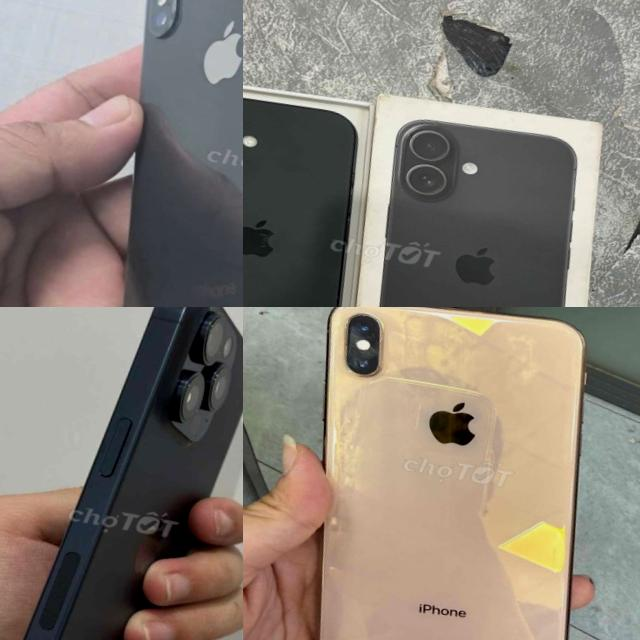scratch: (243, 135, 260, 162)
